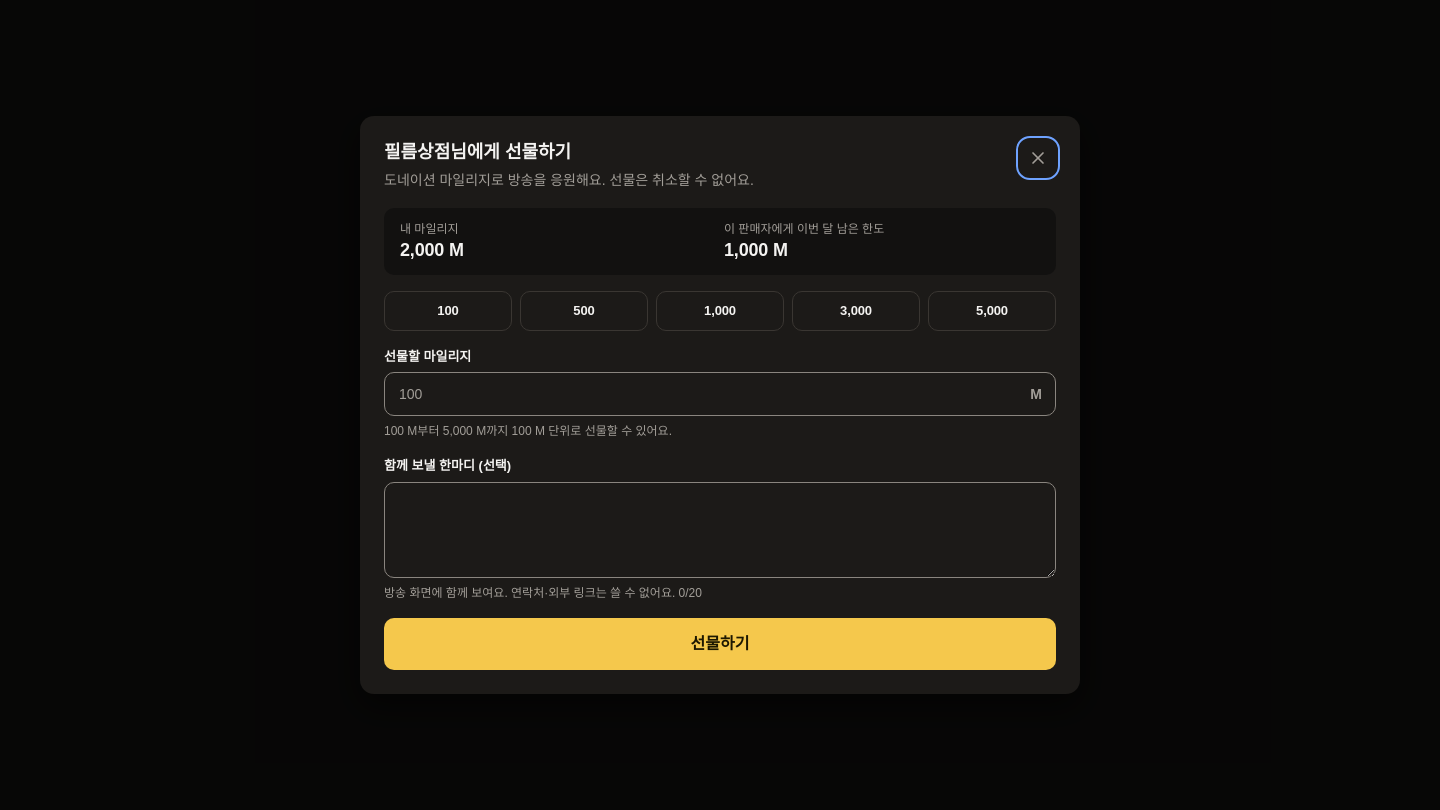
Scenario: DonationDialog › 이번 달 남은 한도를 넘으면 보내지 않고 입력 아래에 알려 준다
Click the button "3,000".
click(856, 311)  # box top-left (792, 291), bottom-right (920, 331)
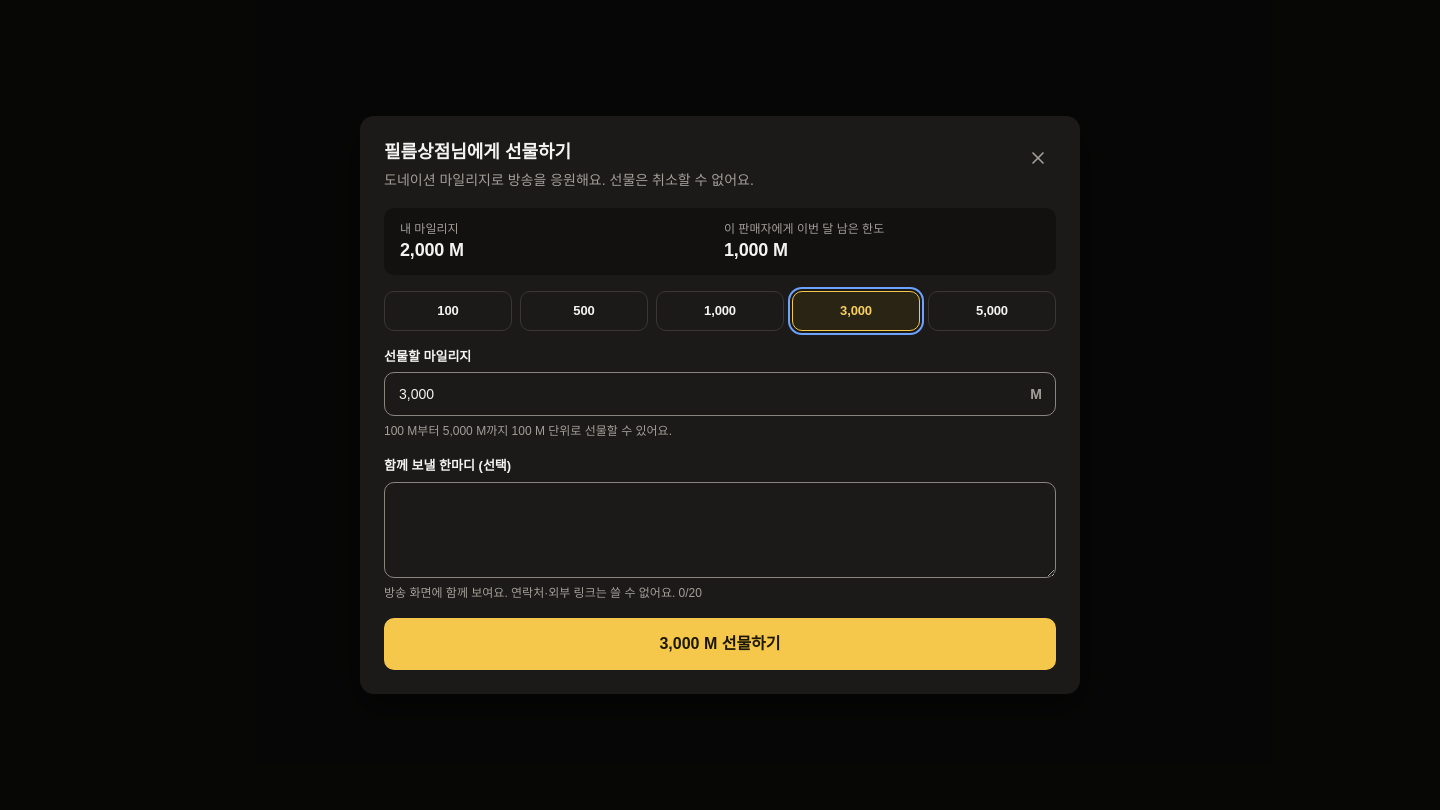
Click the button "3,000 M 선물하기".
click(720, 644)  # box top-left (384, 618), bottom-right (1056, 670)
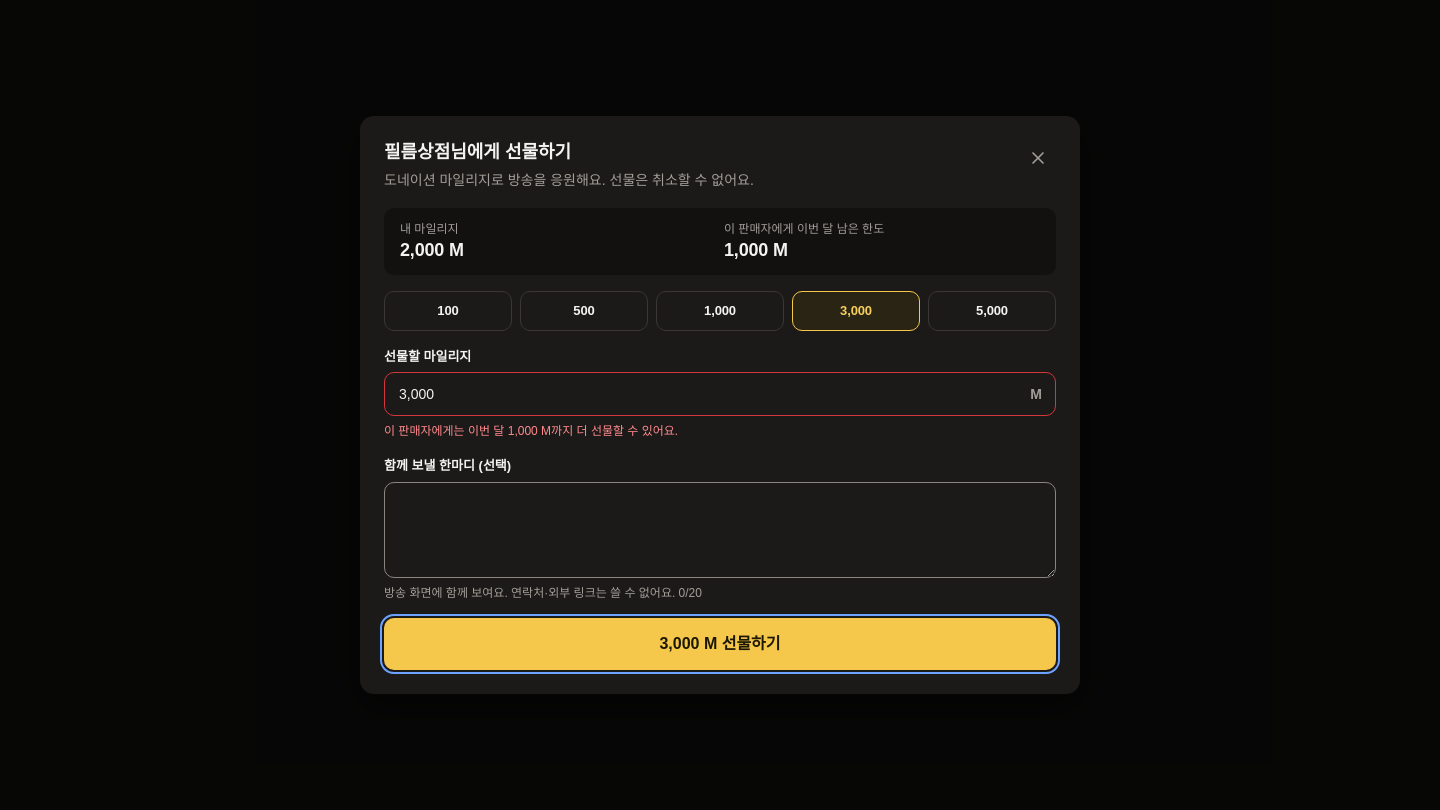
Expected: the text "이 판매자에게는 이번 달 1,000 M까지 더 선물할 수 있어요." is shown, top-left (384, 424), bottom-right (678, 438)
